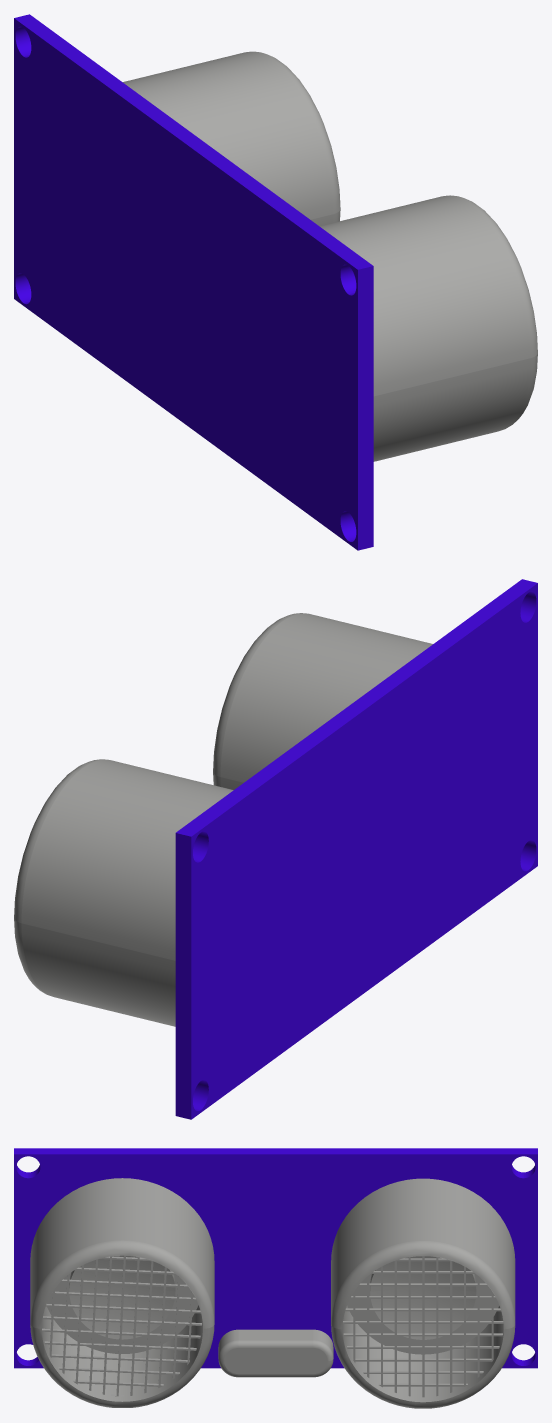
Rendered from ultrasonic.dae.
3 renders of one model, top to bottom at view 1: azimuth 30°, elevation 25°; view 2: azimuth 150°, elevation 25°; view 3: azimuth 270°, elevation 25°, orthographic. The views are drawn at different scales.
Parts seen in each view (by area): view 1: HC-SR04_45, HC-SR04_52, HC-SR04_51; view 2: HC-SR04_45, HC-SR04_51, HC-SR04_52; view 3: HC-SR04_45, HC-SR04_52, HC-SR04_51, HC-SR04_87, HC-SR04_88, HC-SR04_50.
Part boxes in pixels (<box>): HC-SR04_45: <box>14,14,373,550</box>; HC-SR04_52: <box>320,195,537,461</box>; HC-SR04_51: <box>123,51,340,226</box>; HC-SR04_45: <box>175,579,537,1119</box>; HC-SR04_51: <box>14,759,233,1026</box>; HC-SR04_52: <box>213,613,432,789</box>; HC-SR04_45: <box>14,1148,537,1368</box>; HC-SR04_52: <box>30,1178,214,1407</box>; HC-SR04_51: <box>331,1178,515,1408</box>; HC-SR04_87: <box>42,1255,201,1396</box>; HC-SR04_88: <box>343,1256,503,1397</box>; HC-SR04_50: <box>218,1329,333,1377</box>.
Size of the model in its own units: 0.015 by 0.0455 by 0.0205.
